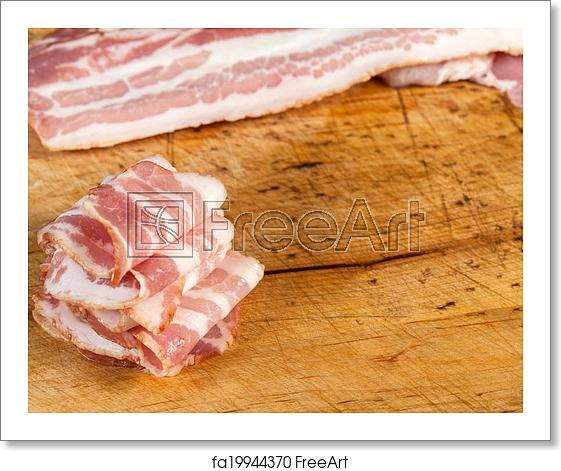bacon: (28, 28, 525, 162), (34, 132, 266, 391)
